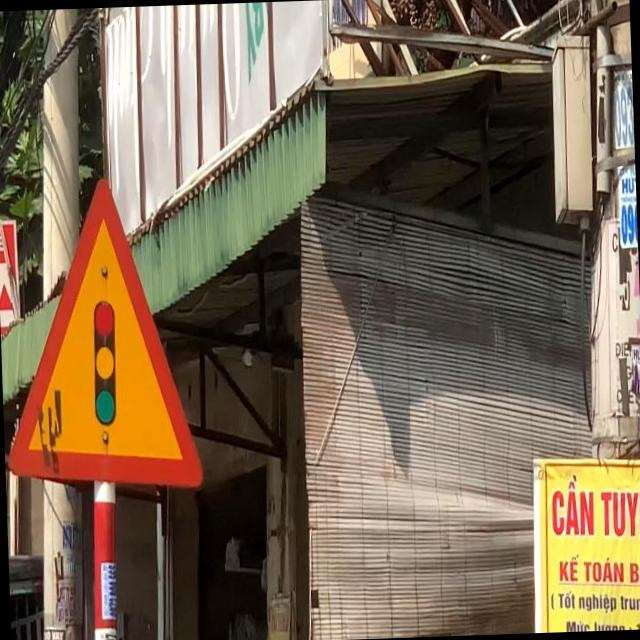W-209: (0, 170, 202, 495)
